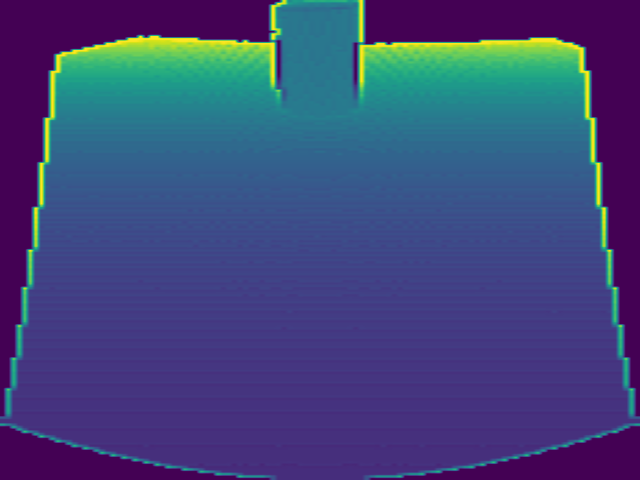cylinder: (269, 1, 366, 114)
